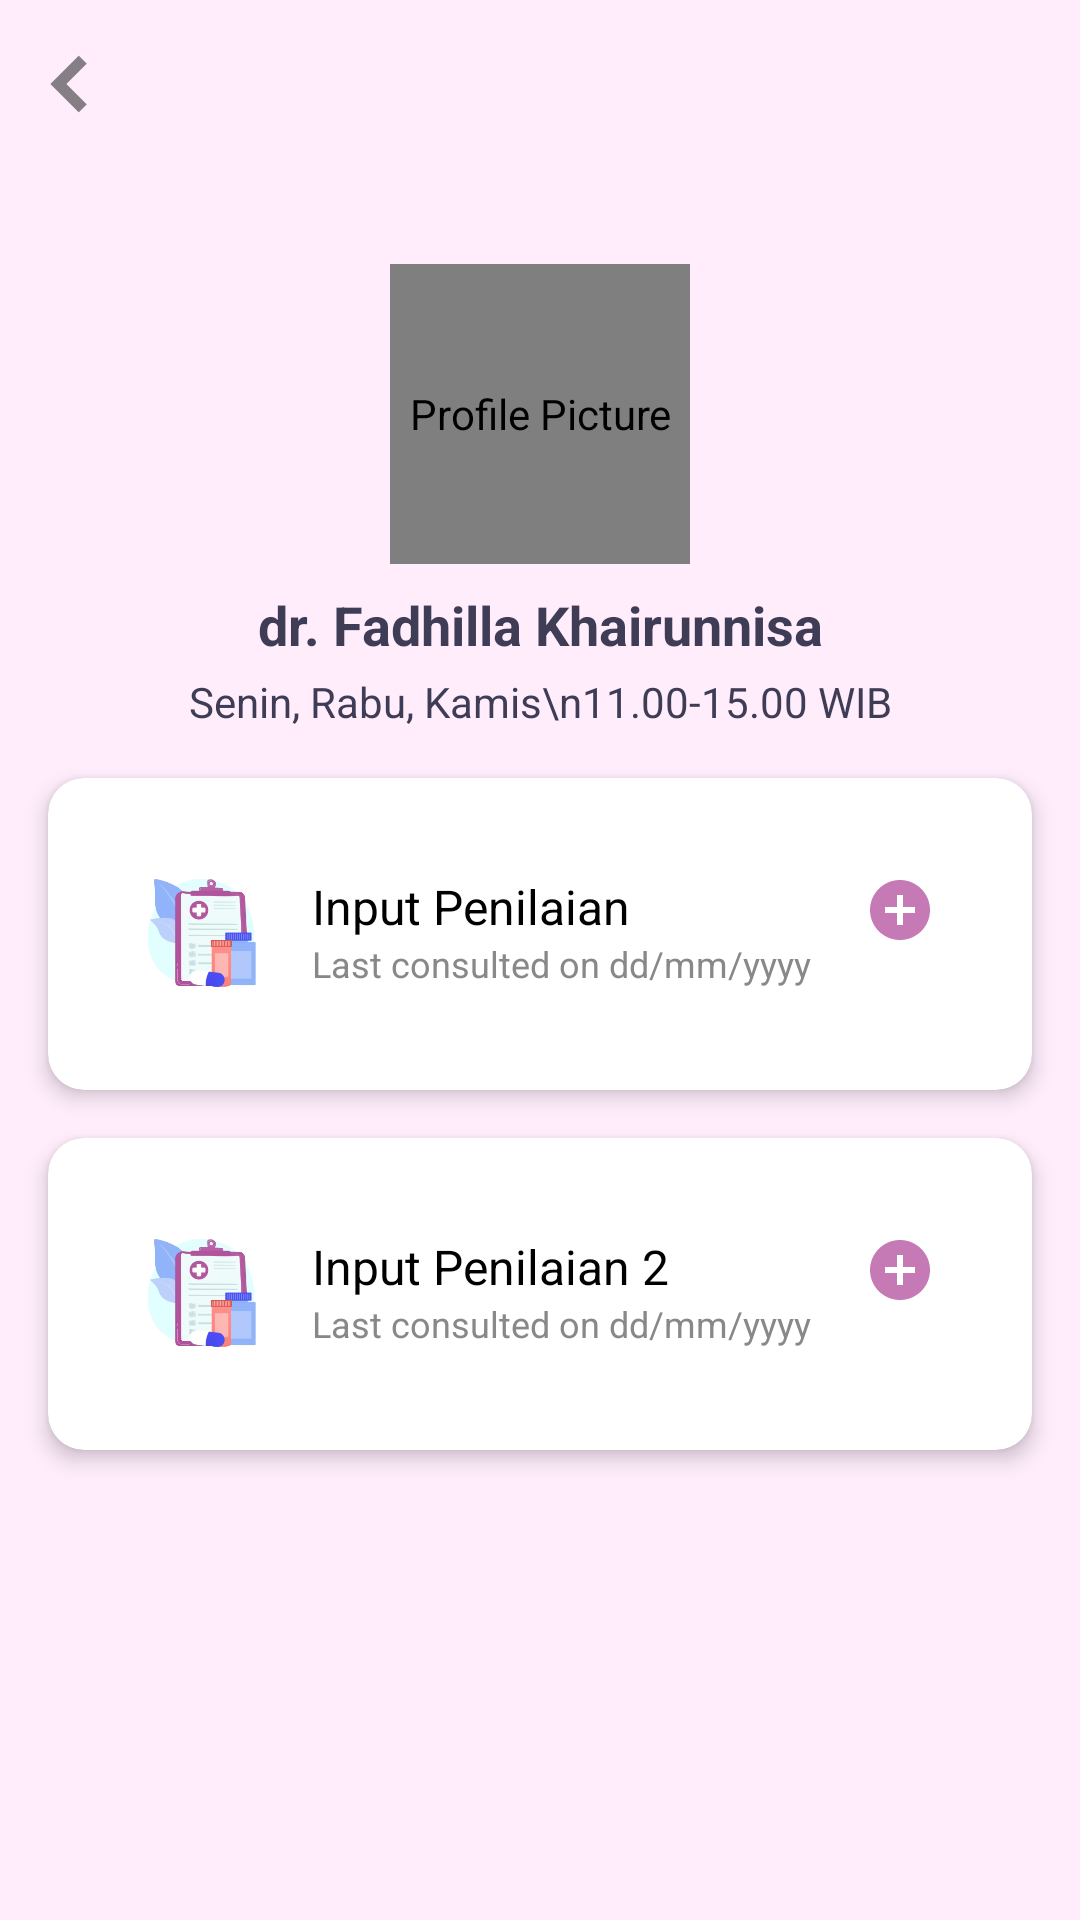

Named icons in this screenshot (1080 x 1920) and their centers, [x,y]:
Add icon: [900,910], [900,1270]
Back Icon: [69,84]
Icon Evaluasi Kinerja: [202,933], [202,1293]
